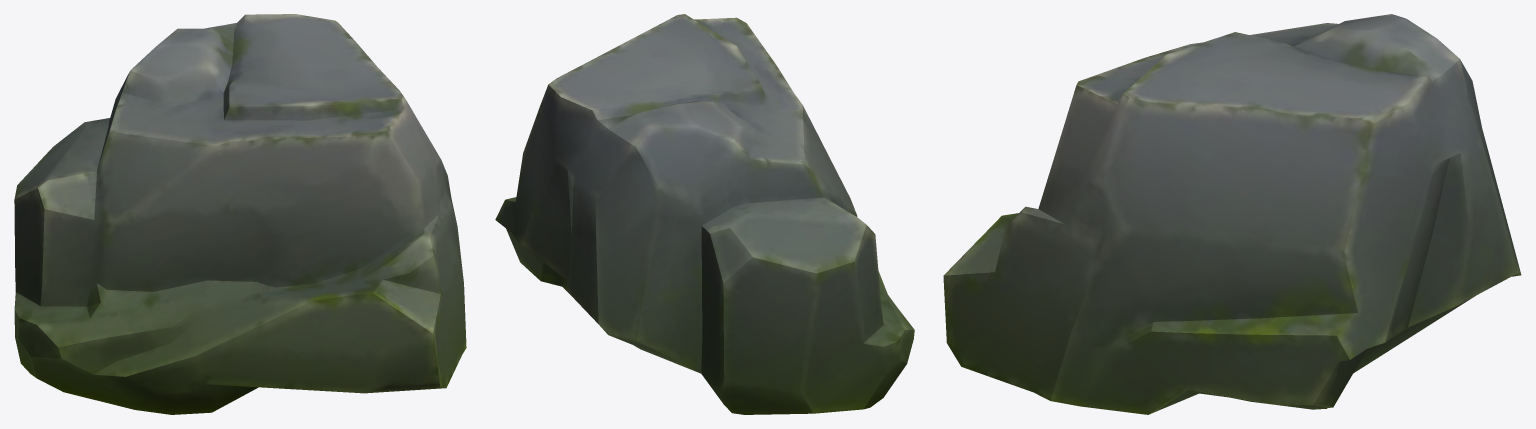
The model's file is rock-b.glb.
The picture shows the model from 3 angles, left to right: view 1: azimuth 30°, elevation 25°; view 2: azimuth 150°, elevation 25°; view 3: azimuth 270°, elevation 25°; orthographic projection. The views are drawn at different scales.
Parts seen in each view (by area): view 1: Rock_Medium_3; view 2: Rock_Medium_3; view 3: Rock_Medium_3.
Part boxes in pixels (x1,y1,x2,y2): Rock_Medium_3: (14,14,466,414); Rock_Medium_3: (495,14,914,414); Rock_Medium_3: (943,14,1521,414).
Size of the model in its own units: 3.42 by 2.32 by 3.48.
Materials: 1 (1 with a texture image).
